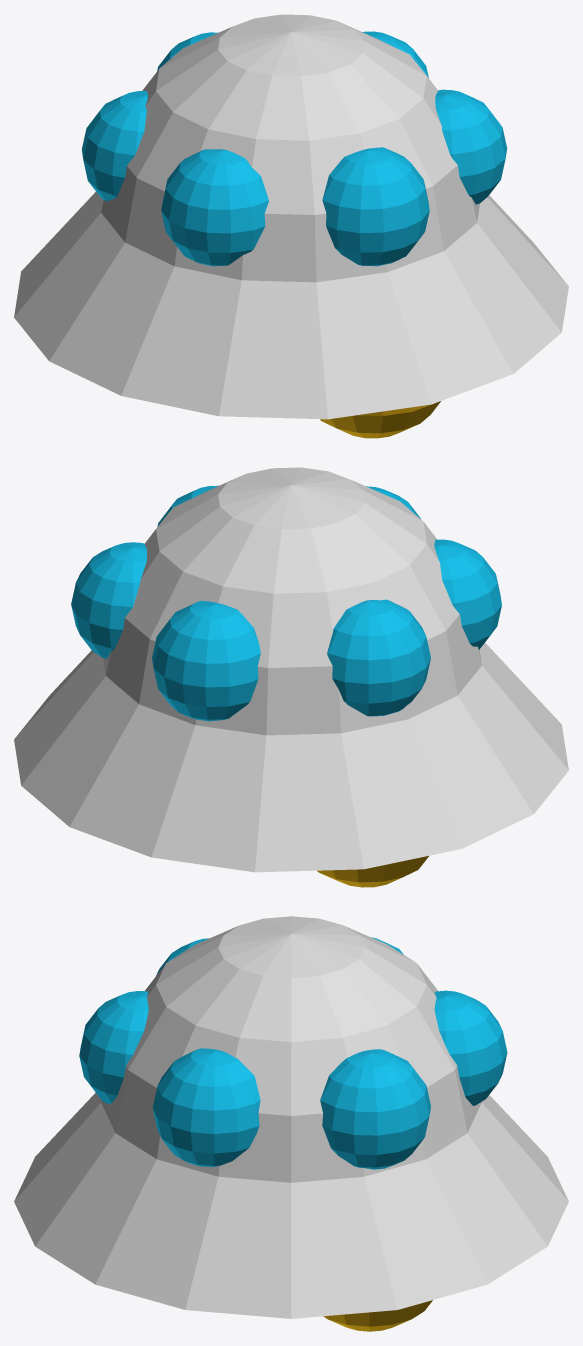
File: ufo_color.glb
3 renders of one model, top to bottom at view 1: azimuth 30°, elevation 25°; view 2: azimuth 150°, elevation 25°; view 3: azimuth 270°, elevation 25°, orthographic.
Parts seen in each view (by area): view 1: Cone, Sphere, Sphere.008, Sphere.004, Sphere.005, Sphere.007, Sphere.001, Sphere.009; view 2: Cone, Sphere, Sphere.006, Sphere.007, Sphere.009, Sphere.004, Sphere.003; view 3: Cone, Sphere, Sphere.009, Sphere.005, Sphere.006, Sphere.008, Sphere.002.
Part boxes in pixels (x1,y1,x2,y2): Cone: (14, 192, 568, 419); Sphere: (101, 14, 479, 282); Sphere.008: (322, 147, 429, 266); Sphere.004: (161, 149, 268, 266); Sphere.005: (435, 89, 507, 204); Sphere.007: (81, 91, 147, 201); Sphere.001: (320, 401, 440, 438); Sphere.009: (362, 31, 428, 77); Cone: (14, 643, 568, 872); Sphere: (103, 467, 481, 735); Sphere.006: (152, 600, 260, 721); Sphere.007: (327, 599, 430, 716); Sphere.009: (71, 542, 147, 658); Sphere.004: (434, 539, 501, 649); Sphere.003: (317, 856, 428, 887); Cone: (14, 1092, 568, 1318); Sphere: (101, 916, 481, 1182); Sphere.009: (320, 1049, 430, 1169); Sphere.005: (152, 1048, 260, 1166); Sphere.006: (434, 990, 507, 1105); Sphere.008: (79, 991, 148, 1104); Sphere.002: (323, 1300, 432, 1331).
Bounding box in the file's own units: 2.15 × 1.43 × 2.15.
